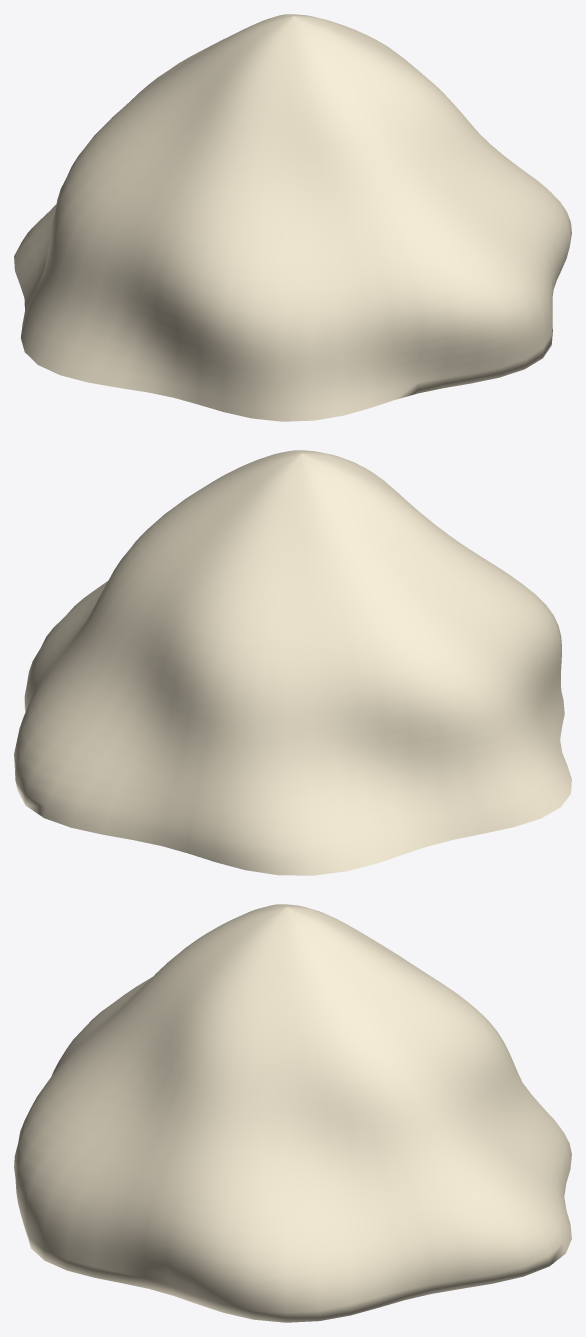
The model's file is topping-creme-de-ninho.glb.
3 views of the same model, one above another, from view 1: azimuth 30°, elevation 25°; view 2: azimuth 150°, elevation 25°; view 3: azimuth 270°, elevation 25° (orthographic).
Visible parts, largest first — view 1: topping-creme-de-ninho; view 2: topping-creme-de-ninho; view 3: topping-creme-de-ninho.
Boxes of the visible parts, x1,y1,x2,y2 form: topping-creme-de-ninho: [14, 14, 571, 421]; topping-creme-de-ninho: [14, 450, 571, 875]; topping-creme-de-ninho: [14, 904, 571, 1322].
Size of the model in its own units: 0.0286 by 0.0152 by 0.0266.
